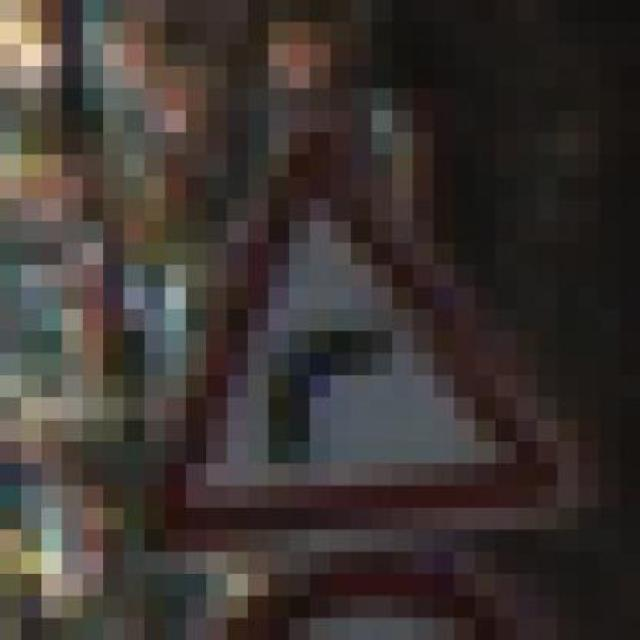Dangerous Rright Curve Ahead: (103, 132, 599, 552)
